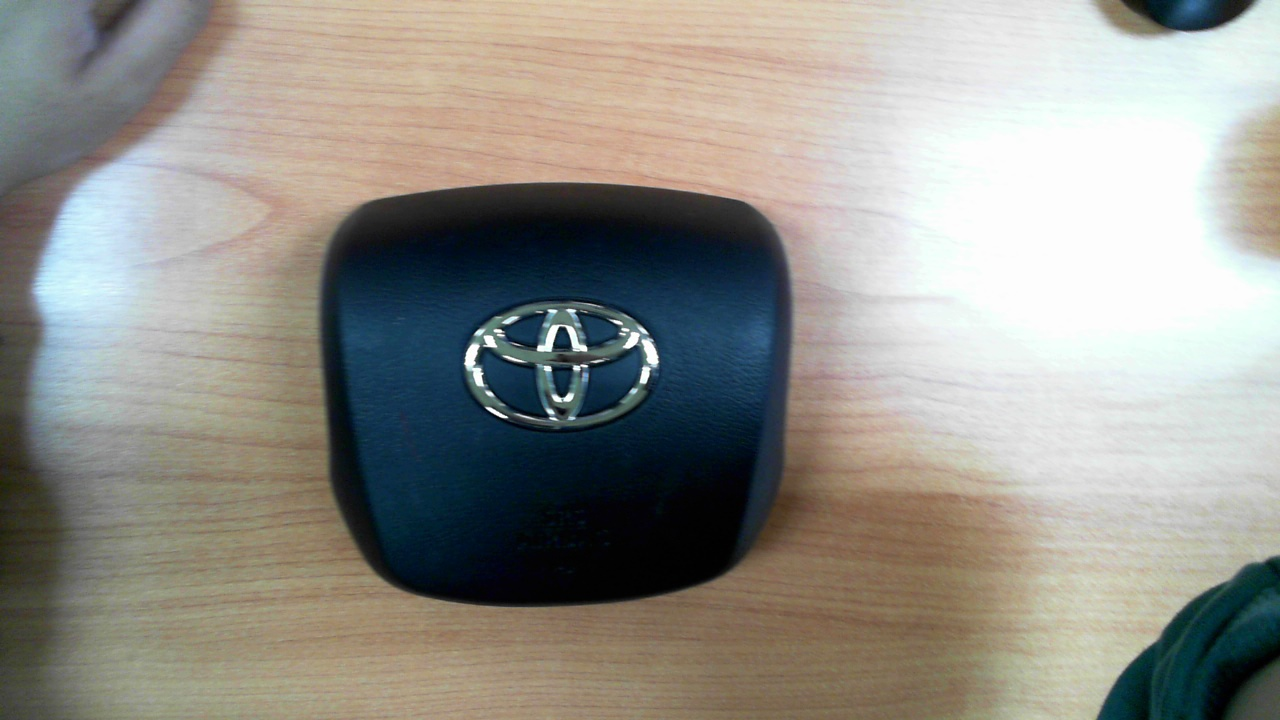Airbag: (317, 181, 794, 609)
Toyota: (464, 301, 659, 430)
